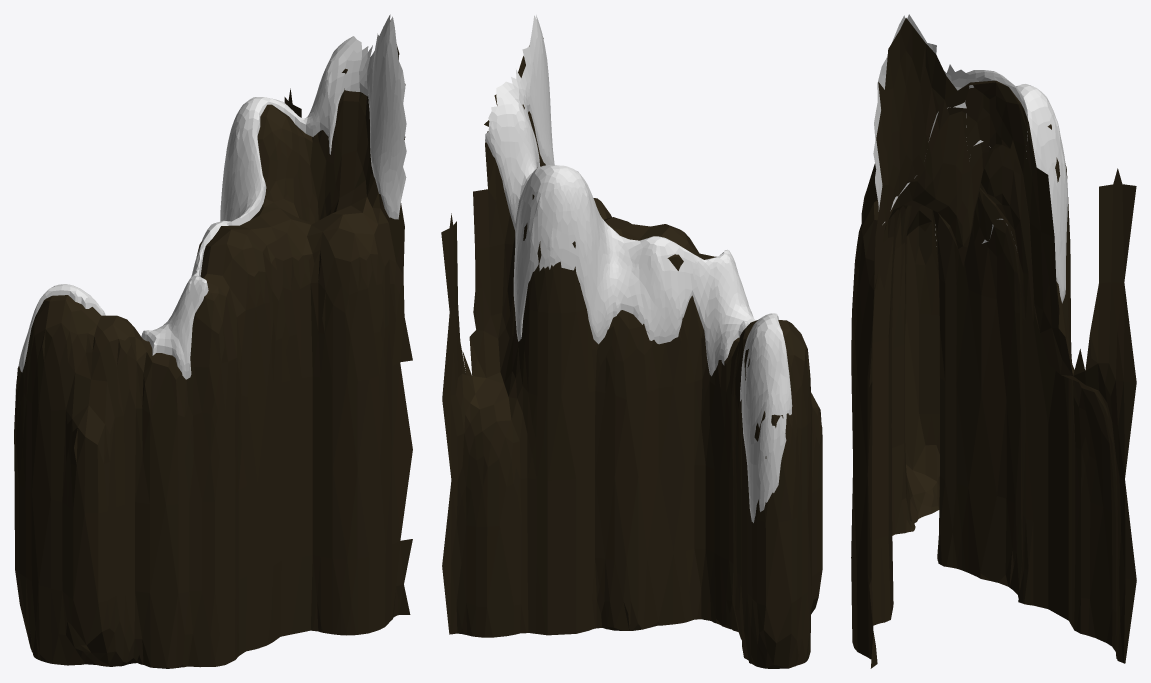
Rendered from Mtn_Corner_SE.fbx.
The picture shows the model from 3 angles, left to right: view 1: azimuth 30°, elevation 25°; view 2: azimuth 150°, elevation 25°; view 3: azimuth 270°, elevation 25°; orthographic projection. The views are drawn at different scales.
Visible parts, largest first — view 1: Mtn_Corner_SE; view 2: Mtn_Corner_SE; view 3: Mtn_Corner_SE.
Part boxes in pixels (<box>): Mtn_Corner_SE: <box>14,14,412,668</box>; Mtn_Corner_SE: <box>441,15,822,668</box>; Mtn_Corner_SE: <box>851,14,1136,668</box>.
Size of the model in its own units: 12865 by 21862 by 8663.
